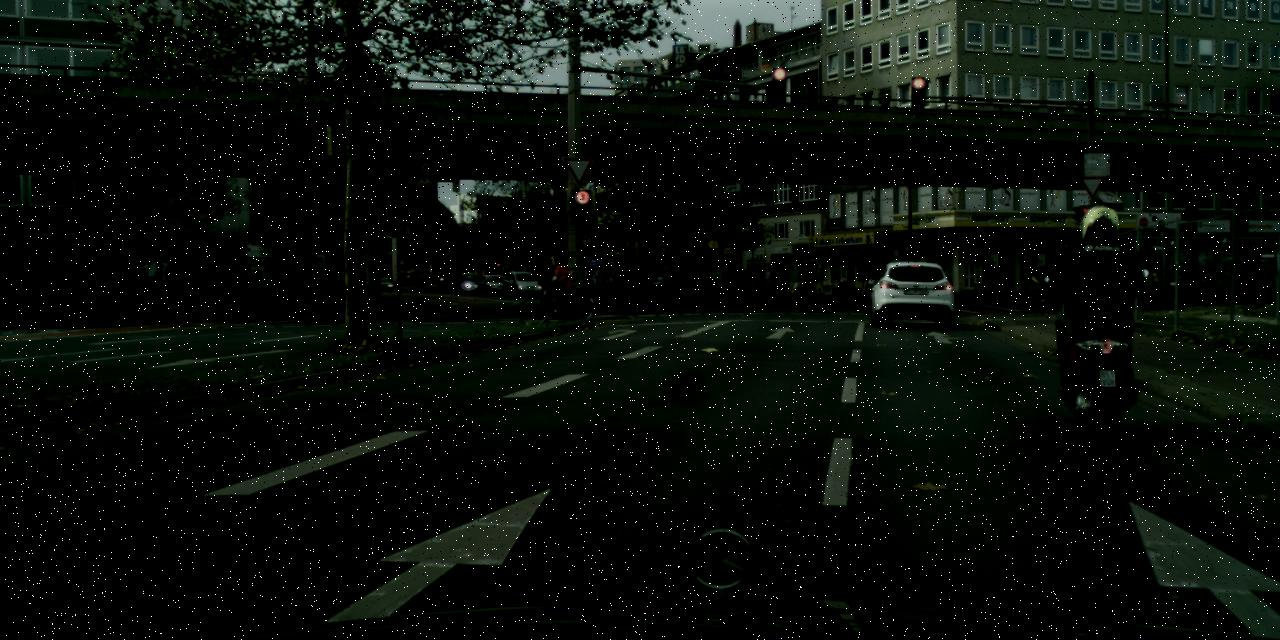ped: (1058, 203, 1140, 406), (549, 254, 572, 312), (41, 272, 54, 306), (80, 275, 92, 306), (248, 274, 256, 295)
